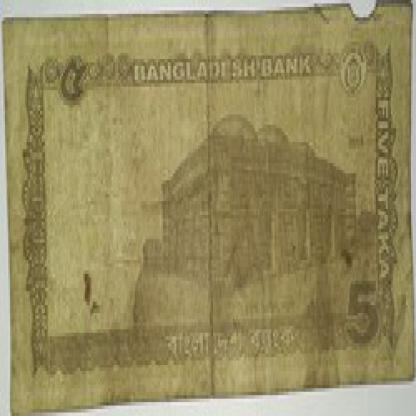Five Taka: (343, 270, 381, 361), (53, 45, 88, 114)
